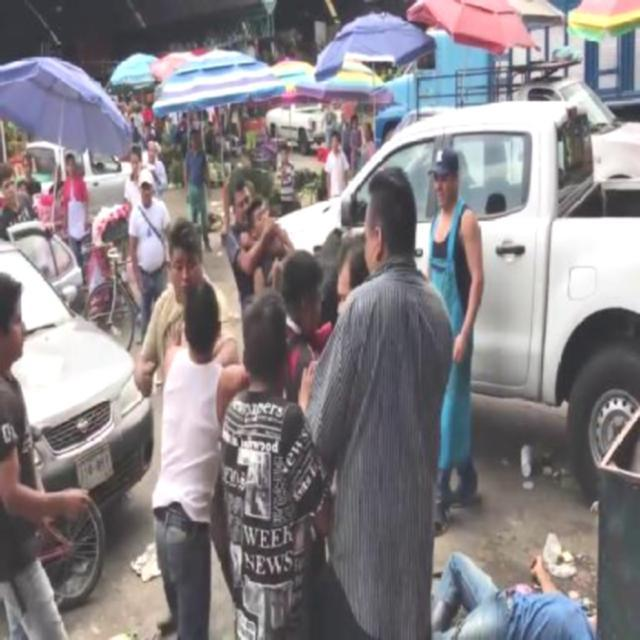fight: (134, 219, 246, 539), (228, 176, 294, 298)
